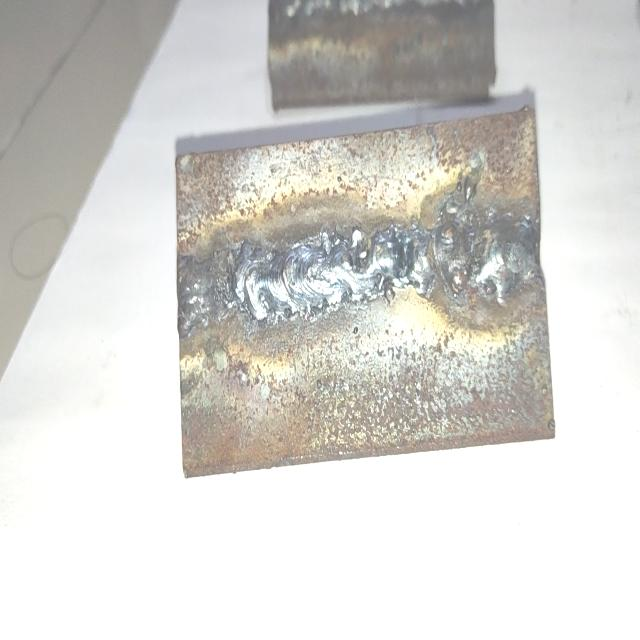Bad Weld: (181, 222, 538, 329)
Defect: (361, 221, 547, 300), (181, 240, 266, 330)
